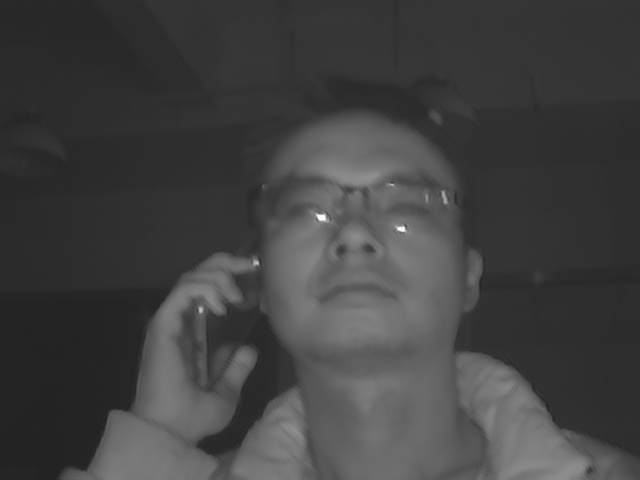hand: (136, 250, 258, 441)
